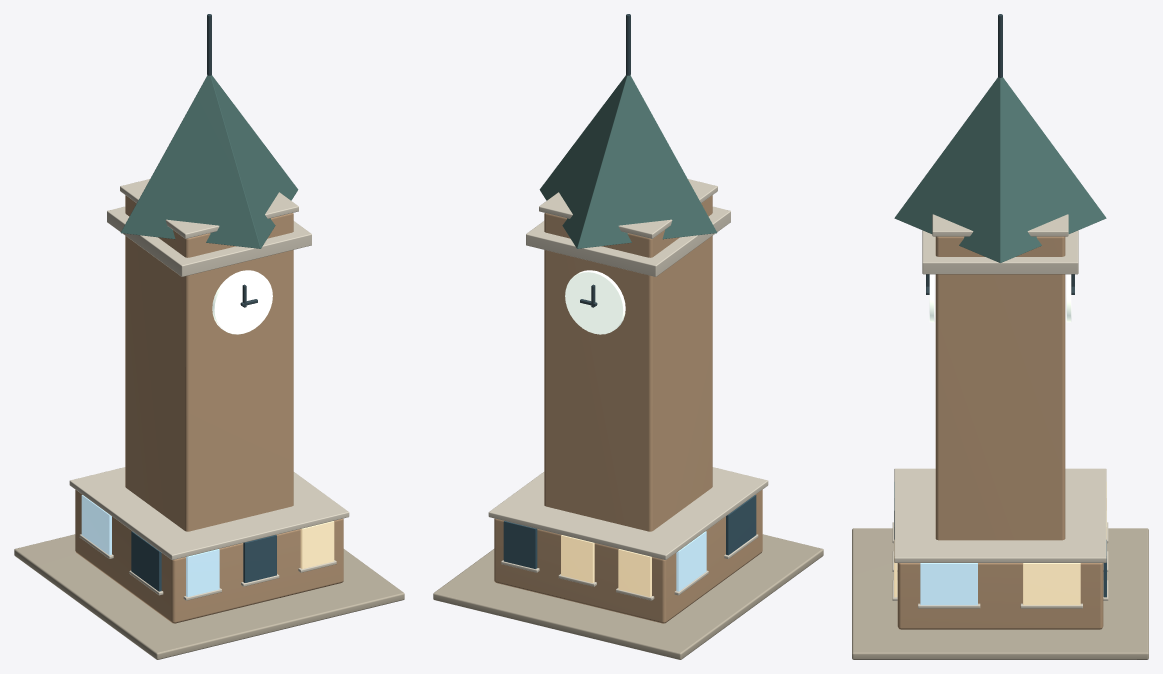
Rendered from clocktower.glb.
3 renders of one model, left to right at view 1: azimuth 30°, elevation 25°; view 2: azimuth 150°, elevation 25°; view 3: azimuth 270°, elevation 25°, orthographic. The views are drawn at different scales.
Parts seen in each view (by area): view 1: clocktower_Building_Volume.001, clocktower_Clock_Spire, clocktower_Site_Paving, clocktower_Building_Volume, clocktower_Roof_Coping, clocktower_Belfry_Cornice, clocktower_Clock_Dial.001, clocktower_Roof_Coping.001, clocktower_Window_Recess.005, clocktower_Window_Recess.003, clocktower_Window_Recess.001, clocktower_Window_Recess.008 (+1 smaller); view 2: clocktower_Building_Volume.001, clocktower_Clock_Spire, clocktower_Site_Paving, clocktower_Building_Volume, clocktower_Roof_Coping, clocktower_Belfry_Cornice, clocktower_Clock_Dial, clocktower_Roof_Coping.001, clocktower_Window_Recess.004, clocktower_Window_Recess.002, clocktower_Window_Recess, clocktower_Window_Recess.006 (+1 smaller); view 3: clocktower_Building_Volume.001, clocktower_Clock_Spire, clocktower_Site_Paving, clocktower_Roof_Coping, clocktower_Building_Volume, clocktower_Belfry_Cornice, clocktower_Window_Recess.007, clocktower_Window_Recess.009, clocktower_Roof_Coping.001.
Part boxes in pixels (box(x1,y1,x2,y2)): clocktower_Building_Volume.001: box(125, 195, 293, 531); clocktower_Clock_Spire: box(120, 75, 298, 248); clocktower_Site_Paving: box(14, 534, 404, 659); clocktower_Building_Volume: box(75, 490, 343, 623); clocktower_Roof_Coping: box(69, 467, 349, 559); clocktower_Belfry_Cornice: box(107, 206, 311, 276); clocktower_Clock_Dial.001: box(212, 270, 272, 334); clocktower_Roof_Coping.001: box(120, 179, 298, 238); clocktower_Window_Recess.005: box(300, 521, 334, 568); clocktower_Window_Recess.003: box(243, 535, 276, 582); clocktower_Window_Recess.001: box(186, 549, 219, 596); clocktower_Window_Recess.008: box(131, 531, 161, 591); clocktower_Building_Volume.001: box(544, 195, 712, 531); clocktower_Clock_Spire: box(539, 75, 717, 248); clocktower_Site_Paving: box(433, 534, 823, 659); clocktower_Building_Volume: box(494, 490, 762, 623); clocktower_Roof_Coping: box(488, 467, 768, 559); clocktower_Belfry_Cornice: box(526, 206, 730, 276); clocktower_Clock_Dial: box(565, 270, 625, 334); clocktower_Roof_Coping.001: box(539, 179, 717, 238); clocktower_Window_Recess.004: box(503, 521, 537, 568); clocktower_Window_Recess.002: box(561, 535, 594, 582); clocktower_Window_Recess: box(618, 549, 651, 596); clocktower_Window_Recess.006: box(676, 531, 706, 591); clocktower_Building_Volume.001: box(935, 236, 1065, 540); clocktower_Clock_Spire: box(894, 77, 1106, 262); clocktower_Site_Paving: box(852, 528, 1148, 659); clocktower_Roof_Coping: box(894, 468, 1106, 562); clocktower_Building_Volume: box(897, 563, 1103, 629); clocktower_Belfry_Cornice: box(922, 230, 1078, 274); clocktower_Window_Recess.007: box(1023, 563, 1080, 605); clocktower_Window_Recess.009: box(920, 563, 977, 605); clocktower_Roof_Coping.001: box(932, 214, 1068, 236).
Size of the model in its own units: 7.8 by 16.9 by 7.8.
